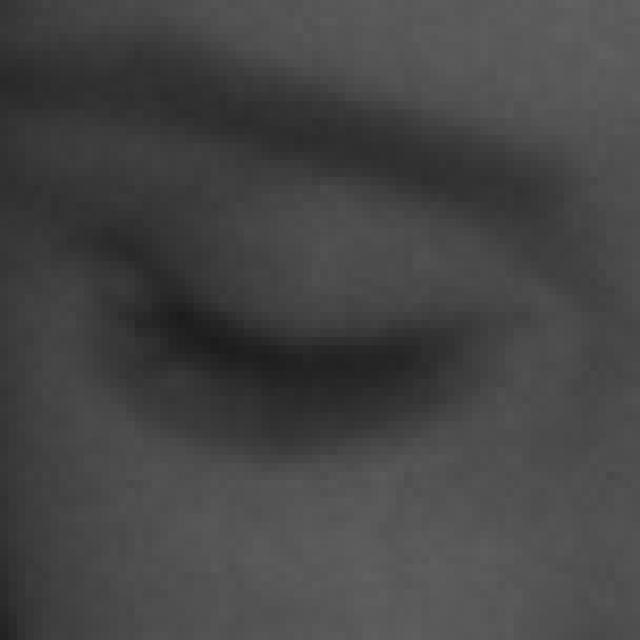Eyeclosed: (100, 189, 482, 512)
